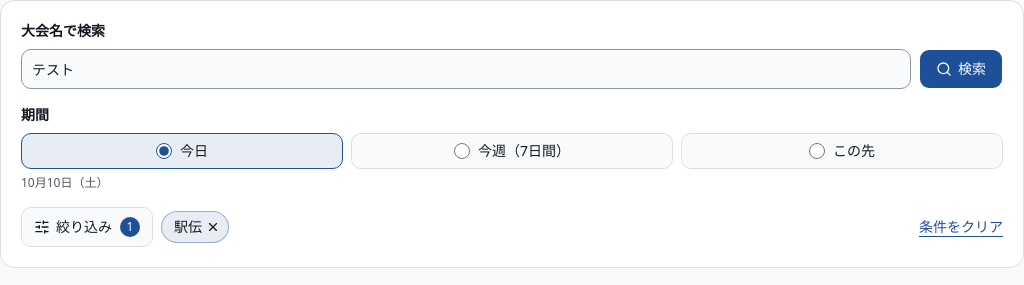
EventFilterForm: 期間と検索語 › 「条件をクリア」で既定の条件に戻す
Click the link "条件をクリア" at (961,226), box [919, 216, 1003, 236]
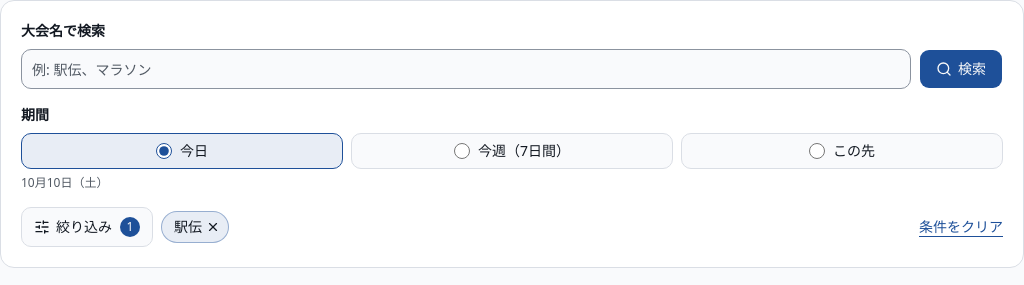
Check: the search field labelled "大会名で検索" is empty, box [21, 49, 911, 89]
